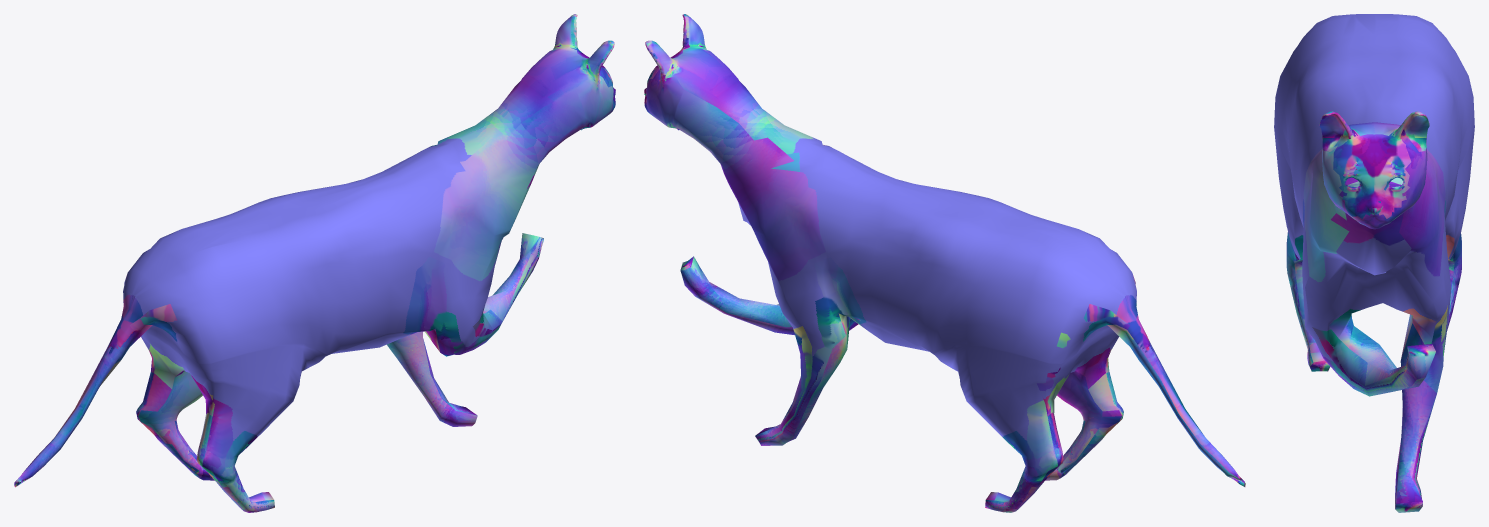
Rendered from cat.obj.
The picture shows the model from 3 angles, left to right: view 1: azimuth 30°, elevation 25°; view 2: azimuth 150°, elevation 25°; view 3: azimuth 270°, elevation 25°; orthographic projection. The views are drawn at different scales.
Visible parts, largest first — view 1: lowpoly_cat_Cube.001; view 2: lowpoly_cat_Cube.001; view 3: lowpoly_cat_Cube.001.
Part boxes in pixels (x1=…): lowpoly_cat_Cube.001: x1=14, y1=14, x2=615, y2=512; lowpoly_cat_Cube.001: x1=644, y1=14, x2=1245, y2=512; lowpoly_cat_Cube.001: x1=1274, y1=14, x2=1474, y2=512.
Size of the model in its own units: 6.14 by 3.7 by 1.44.
2 materials, 1 textured.
